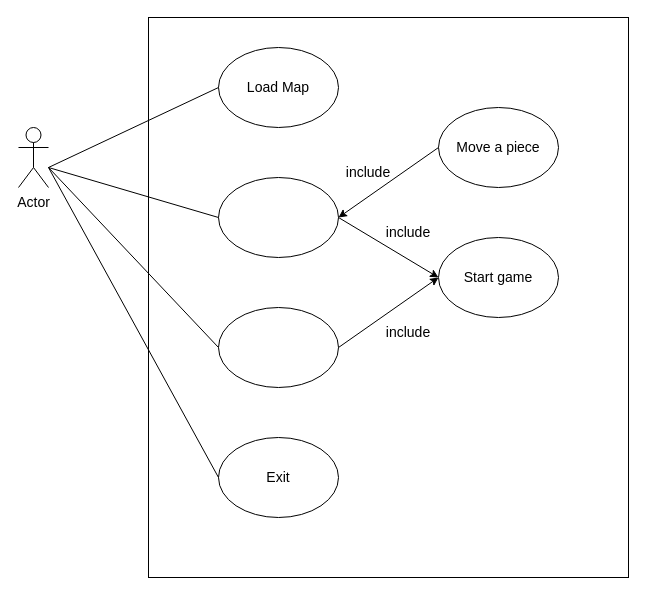
Image size: 646x595. Some labels were removed from this diagram. The shapes that lost their labels are listed below. From the top down, each one's centre as x and y in pixels, then its label:
At pixel 278 217: "Roll a die".
At pixel 278 347: "Rest a turn".
